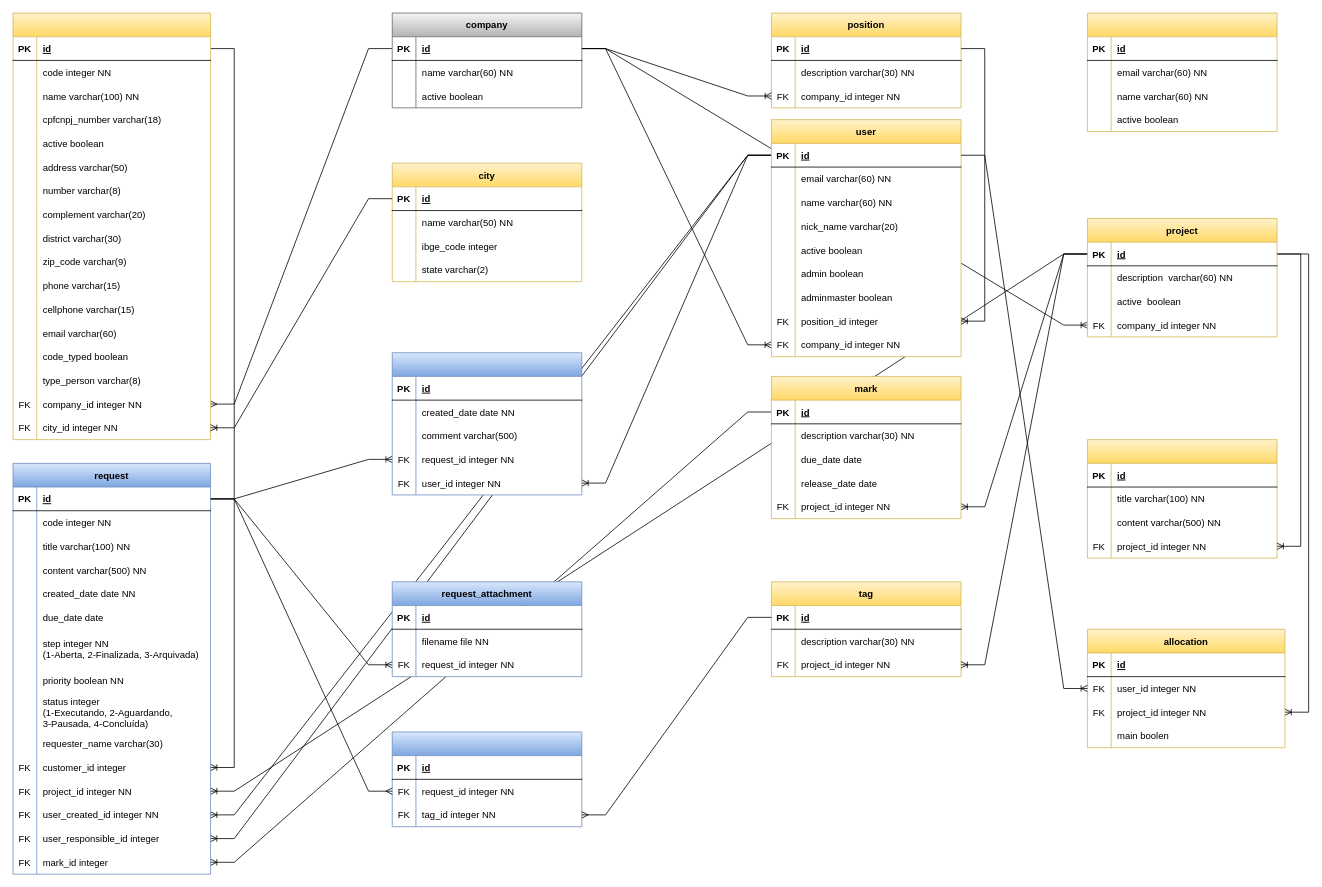
The diagram is 1322 pixels wide and 887 high, and some of its shapes have lost their labels. Here are the shapes that lost their labels. From the top down, the box of each, then its label:
(1087, 12, 1277, 132): admin
(12, 12, 211, 440): customer
(391, 352, 582, 495): request_comment
(1087, 439, 1277, 558): help
(391, 731, 582, 827): request_tag
